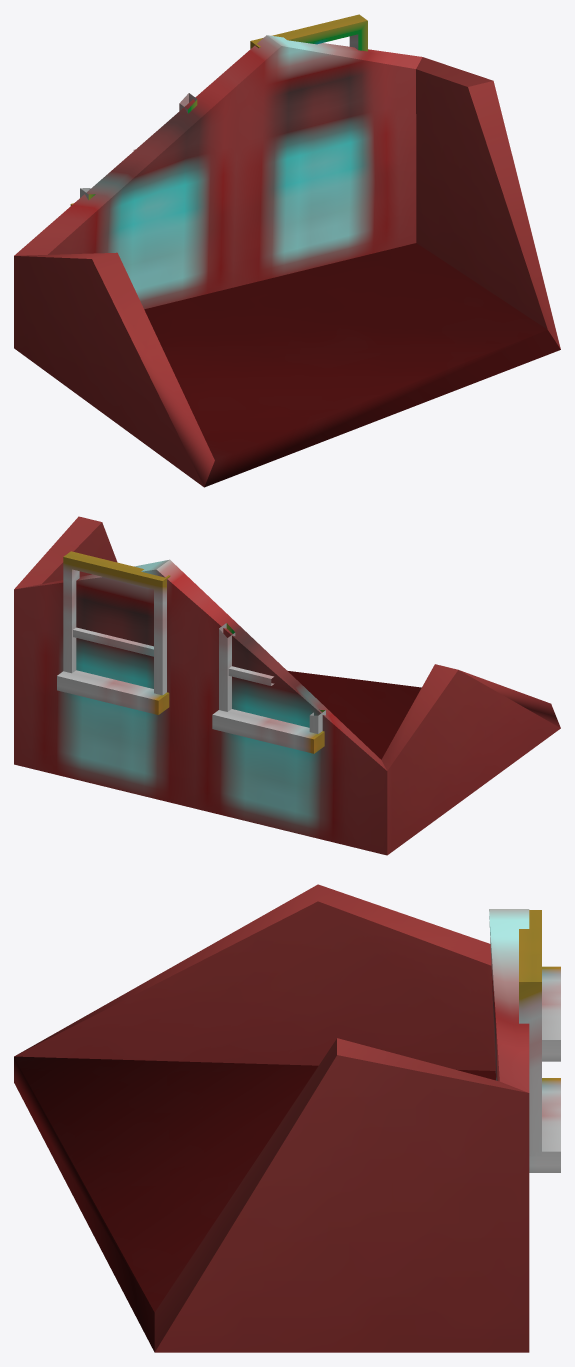
File: B7Broke04.FBX
The picture shows the model from 3 angles, top to bottom: view 1: azimuth 30°, elevation 25°; view 2: azimuth 150°, elevation 25°; view 3: azimuth 270°, elevation 25°; orthographic projection. The views are drawn at different scales.
Visible parts, largest first — view 1: B7Broke04; view 2: B7Broke04; view 3: B7Broke04.
Part boxes in pixels (bbox=[...]): B7Broke04: bbox=[14, 14, 560, 487]; B7Broke04: bbox=[14, 516, 560, 855]; B7Broke04: bbox=[14, 884, 560, 1352].
Bounding box in the file's own units: 52.34 × 30.78 × 44.8.
